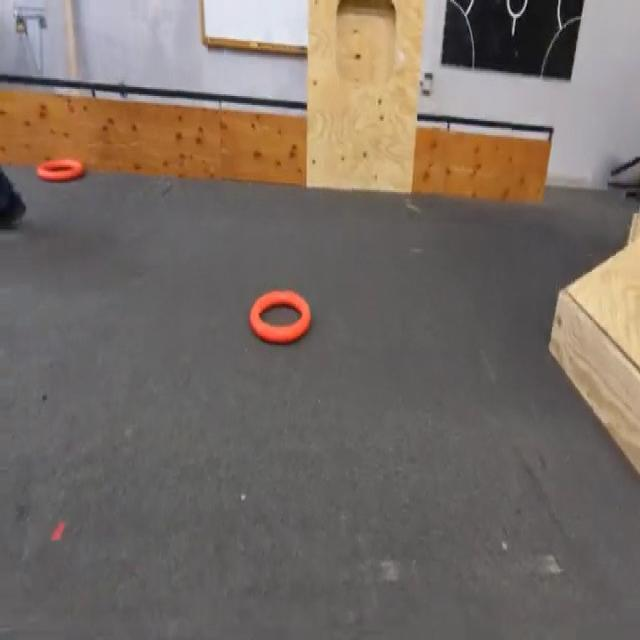note: (250, 290, 314, 342), (36, 158, 86, 184)
